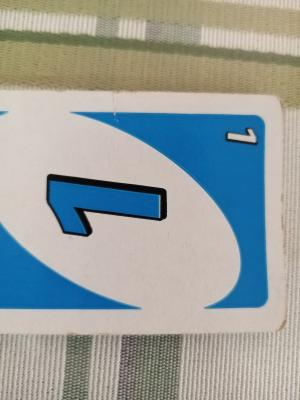blue: (1, 106, 276, 328)
num_1: (220, 114, 264, 151)
